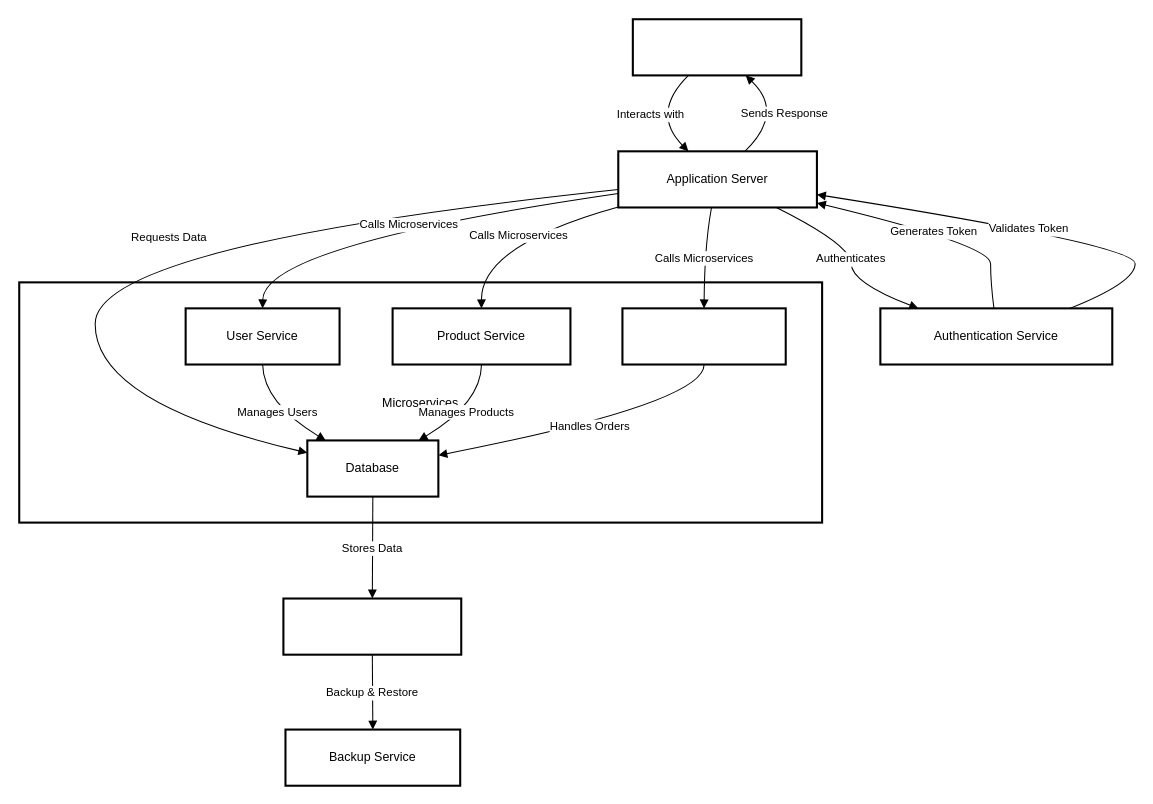
The diagram is 1153 pixels wide and 804 high, and some of its shapes have lost their labels. The shapes that lost their labels are listed below. From the top down, each one's centre as x and y in pixels, then its label:
(716,47): User Interface
(703,336): Order Service
(372,626): Storage Service
